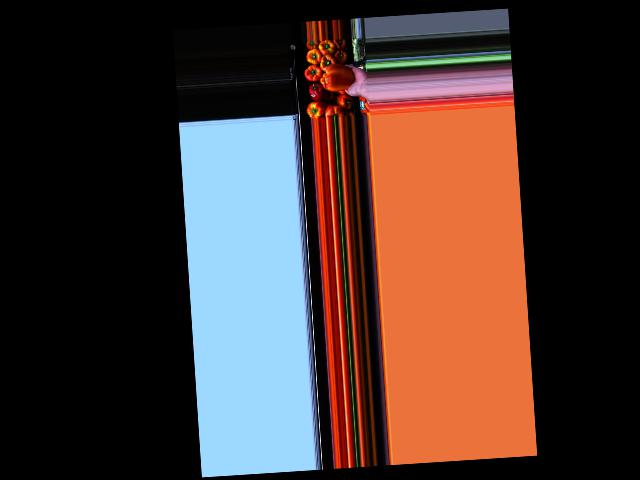bell_pepper: (335, 92, 351, 111)
